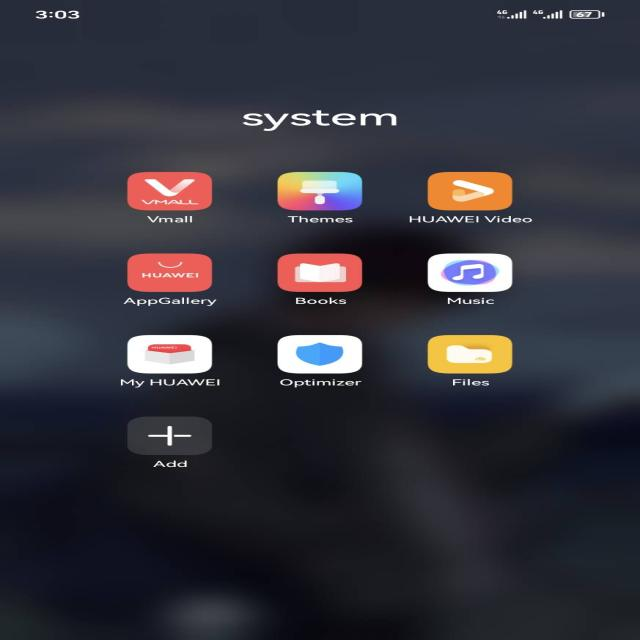Icon: (110, 413, 238, 462), (126, 335, 212, 374), (278, 335, 363, 374), (429, 335, 514, 374), (126, 172, 212, 210), (126, 254, 212, 292), (278, 172, 363, 210), (429, 254, 514, 292), (278, 254, 363, 292), (429, 172, 511, 210)
